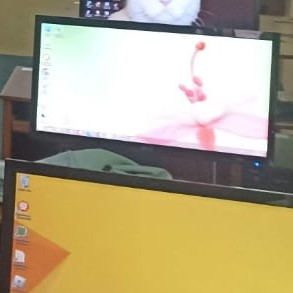monitor: (28, 14, 292, 209), (0, 158, 291, 288), (79, 0, 126, 19)
